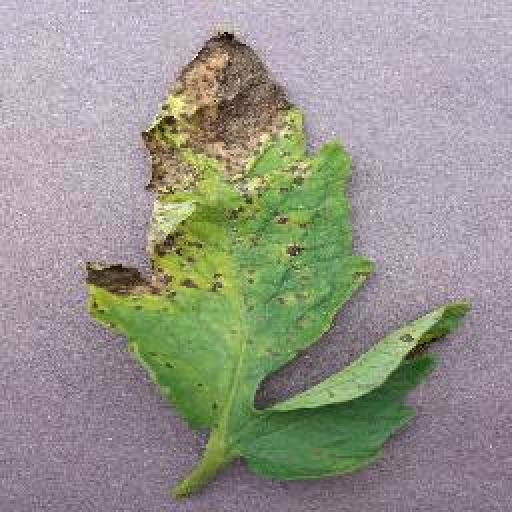disease_tomato: (88, 34, 470, 482)
